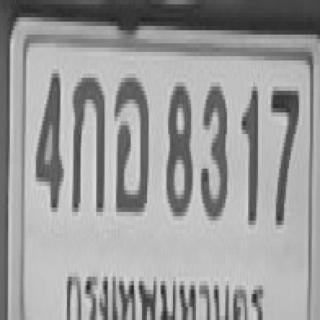A01: (70, 71, 103, 210)
A43: (113, 74, 147, 212)
N01: (240, 82, 256, 220)
N03: (199, 82, 227, 216)
N04: (34, 67, 62, 210)
N07: (269, 86, 297, 220)
N08: (165, 78, 191, 212)
